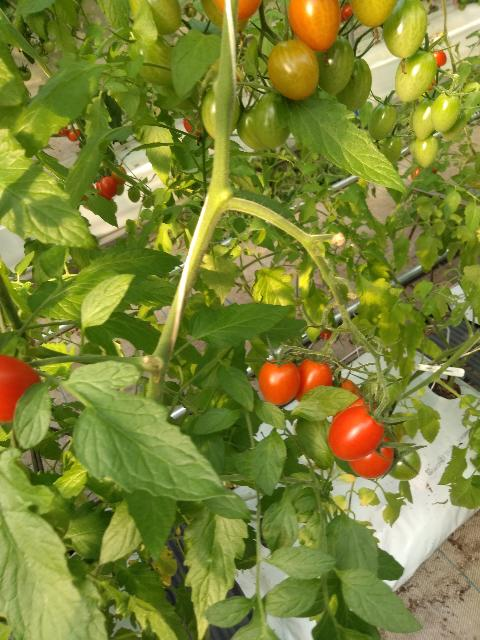l_fully_ripened: (328, 405, 385, 460), (0, 354, 46, 422), (347, 437, 394, 479), (259, 360, 300, 405), (295, 356, 332, 403), (100, 176, 118, 198), (432, 49, 447, 67), (66, 129, 80, 142)
l_green: (383, 0, 428, 59), (313, 35, 355, 95), (132, 38, 181, 85), (395, 51, 437, 103), (335, 57, 373, 112), (254, 91, 290, 149), (128, 0, 182, 36), (202, 88, 239, 140), (200, 0, 248, 33), (236, 106, 271, 151), (363, 372, 403, 410), (385, 445, 422, 481), (430, 91, 461, 132), (368, 103, 396, 140), (413, 98, 435, 140), (411, 134, 438, 168), (440, 110, 466, 141), (381, 134, 402, 164)
l_half_ripened: (267, 39, 319, 100), (288, 0, 341, 52), (349, 0, 398, 28), (214, 1, 262, 21), (111, 166, 126, 186)
